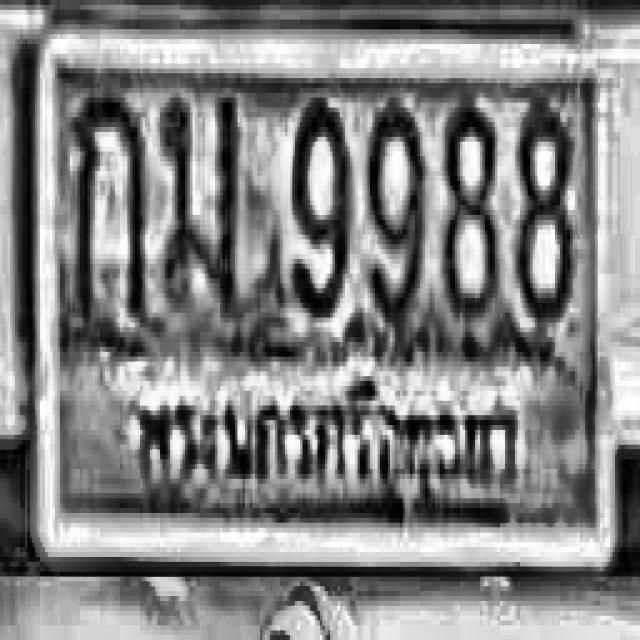license-plate: (33, 32, 622, 574)
